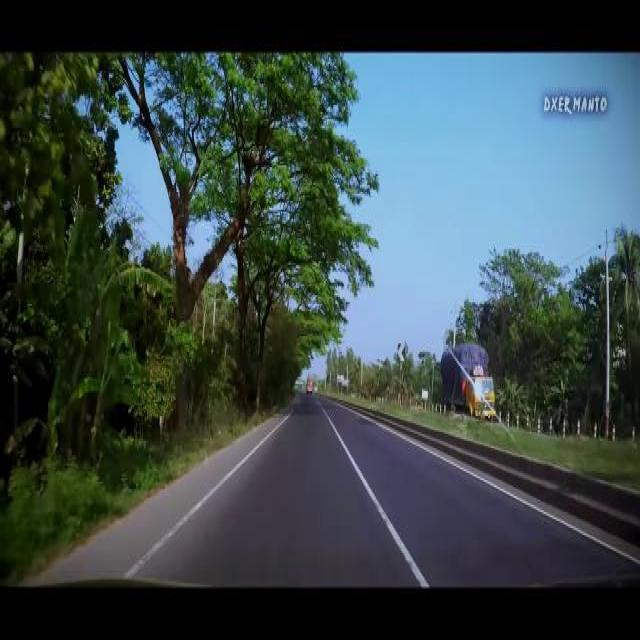18: (438, 339, 496, 422)
Truck: (304, 376, 314, 396)
